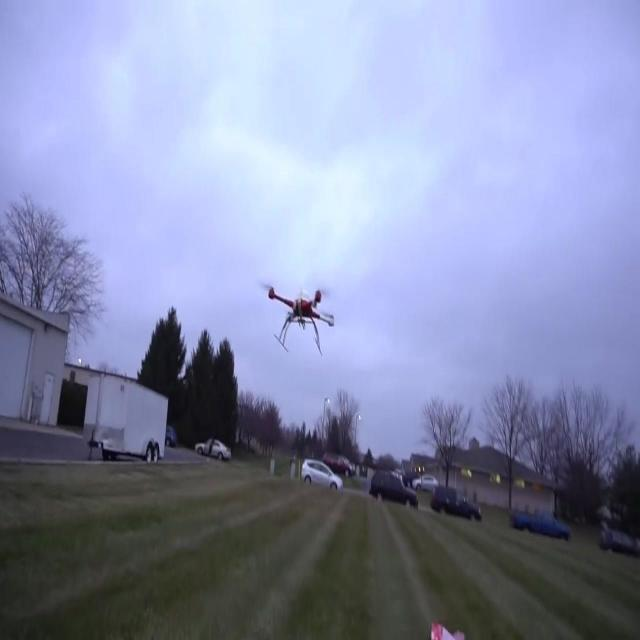UAV: (268, 286, 334, 356)
